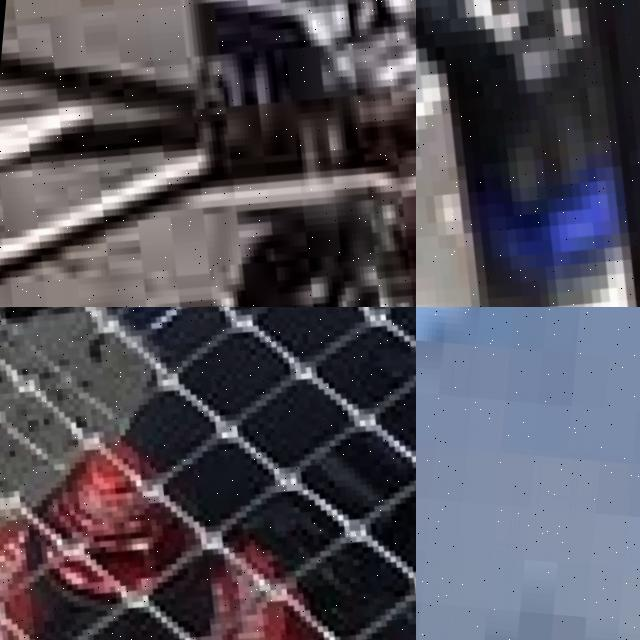drone: (0, 307, 416, 640), (0, 0, 416, 307), (416, 0, 640, 307)
